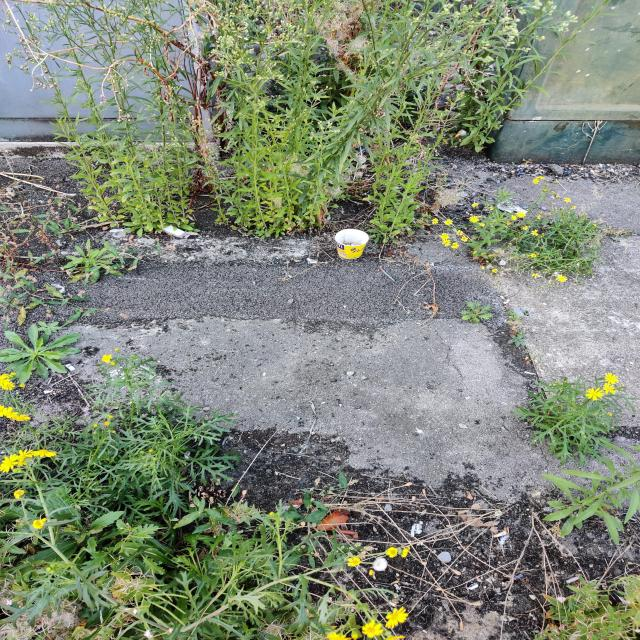litter: (155, 222, 199, 240), (64, 363, 76, 371)
